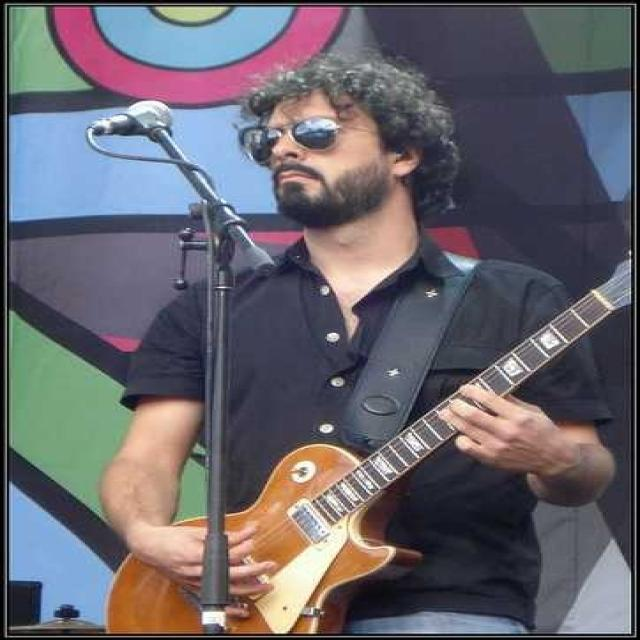microphone: (96, 99, 275, 273), (88, 100, 174, 138)
